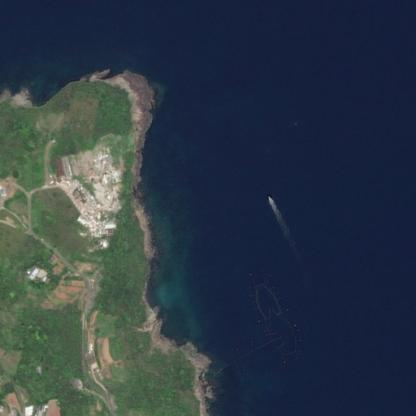ship: (262, 189, 278, 207)
